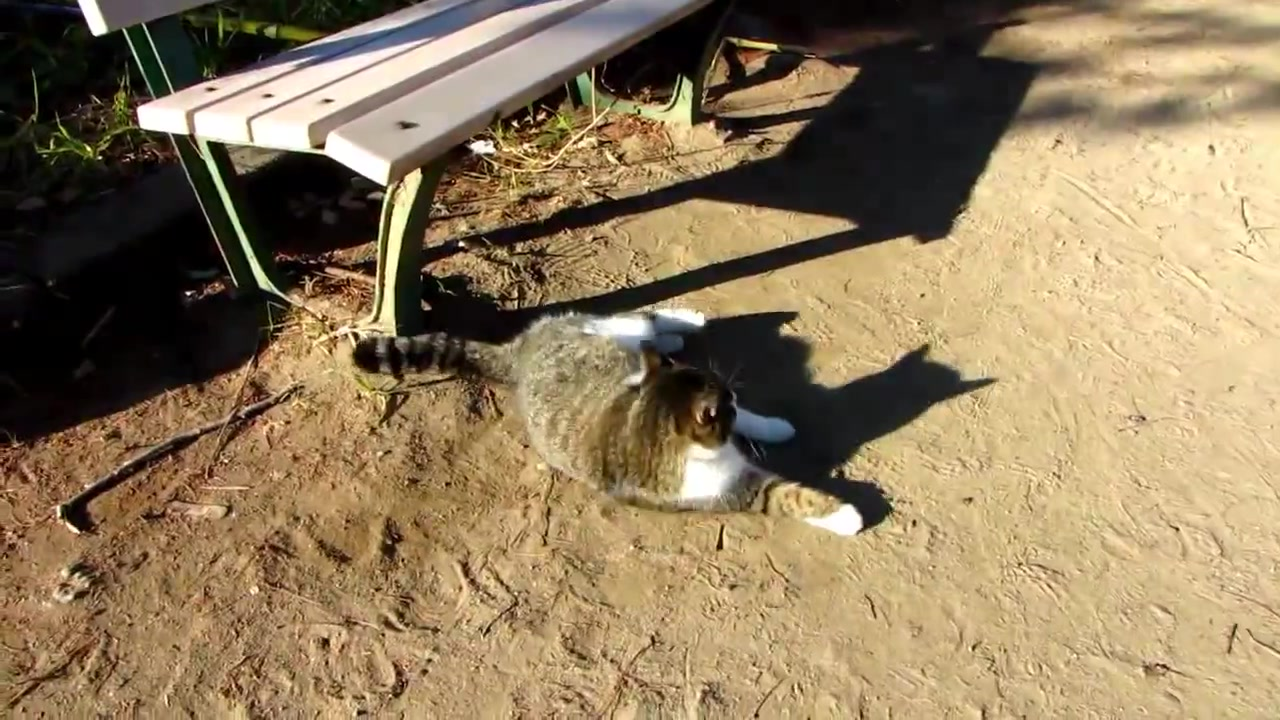cat: (357, 306, 869, 538)
